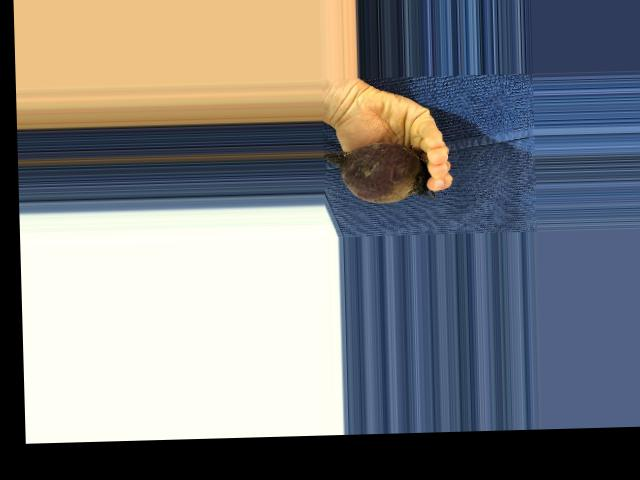beet: (324, 140, 437, 204)
